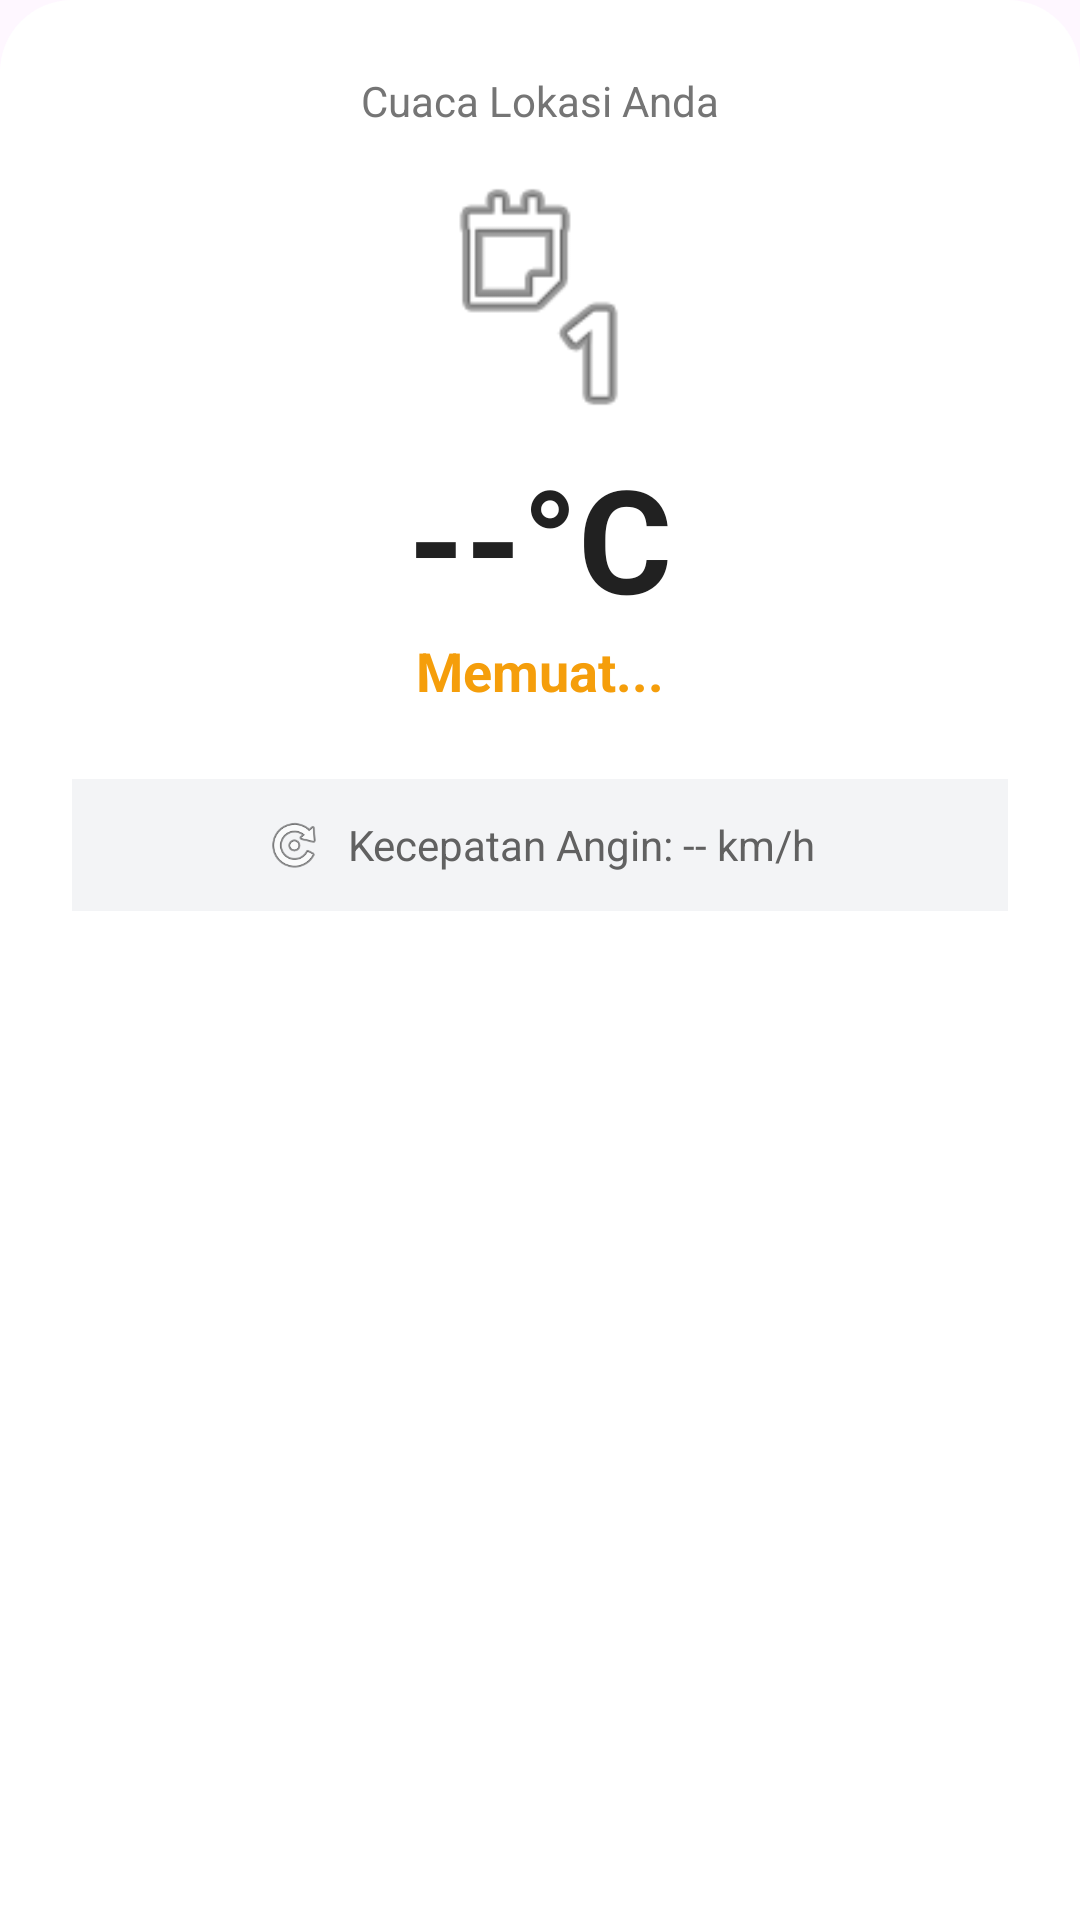

Where icons sit on this 1080×1920 app screen, as (x1,y1,x2,y2):
day: (460,189,618,405)
rotate: (272,823,316,868)
